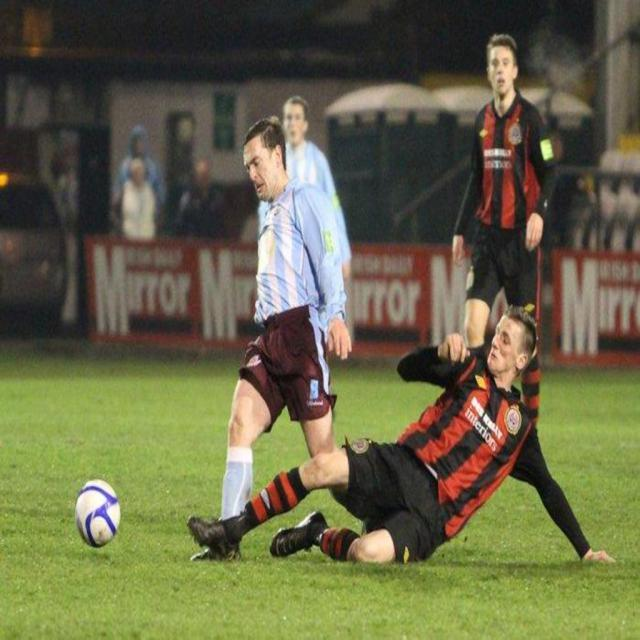football: (64, 472, 128, 554)
